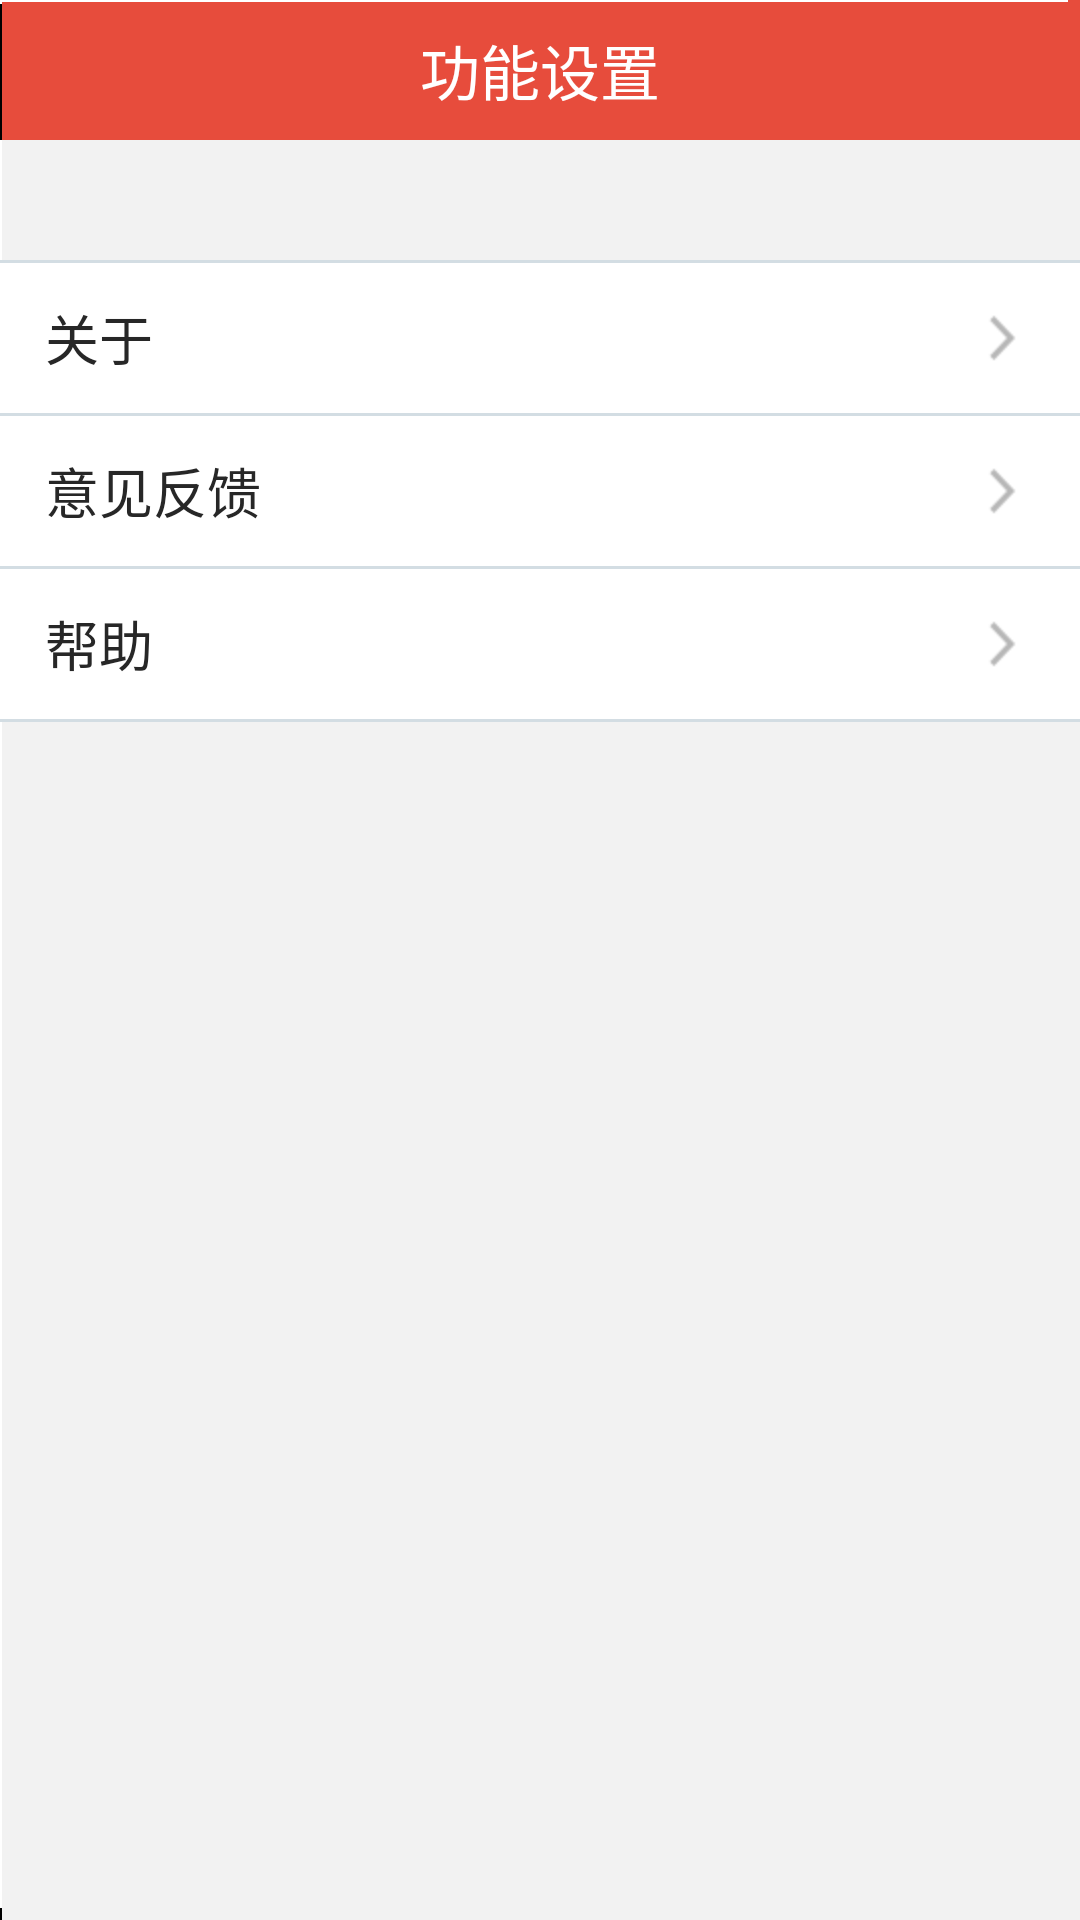

Icon bounding boxes for this 1080w x 1920h phone screenshot, format (x1, y1, x2, y2):
right: (990, 316, 1015, 360), (990, 469, 1015, 513), (990, 622, 1015, 666)
